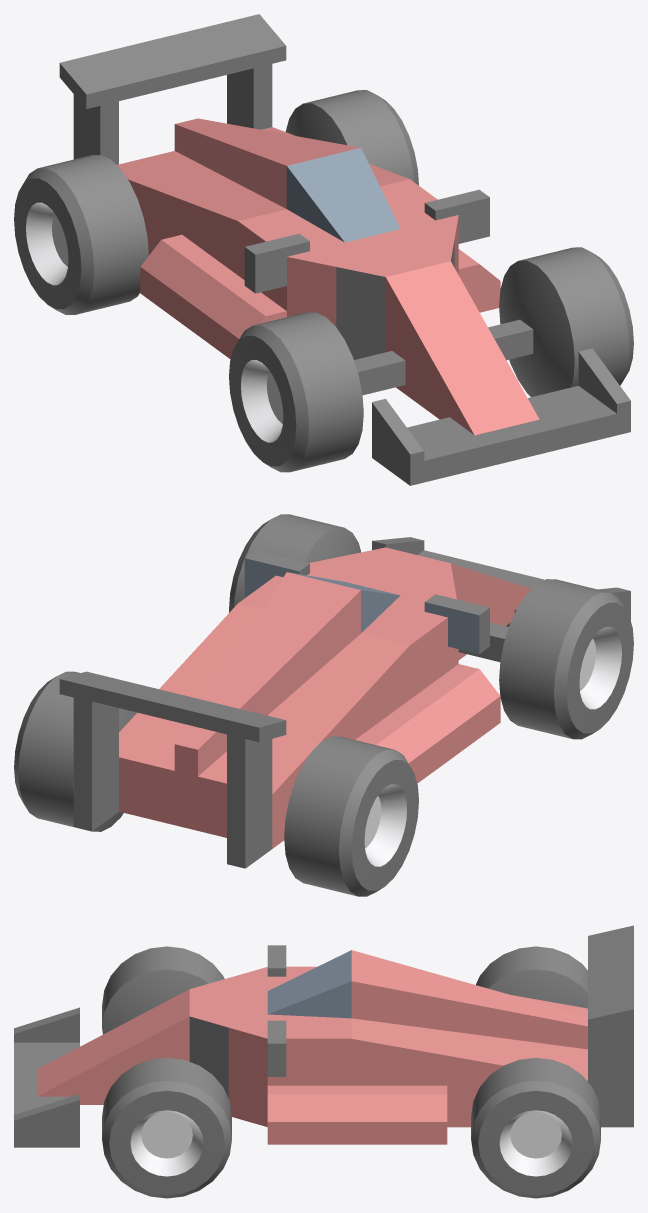
File: Racing Car.fbx
The picture shows the model from 3 angles, top to bottom: view 1: azimuth 30°, elevation 25°; view 2: azimuth 150°, elevation 25°; view 3: azimuth 270°, elevation 25°; orthographic projection. The views are drawn at different scales.
Visible parts, largest first — view 1: body, wheelFrontLeft, wheelBackLeft, wheelFrontRight, wheelBackRight; view 2: body, wheelBackLeft, wheelFrontLeft, wheelBackRight, wheelFrontRight; view 3: body, wheelBackRight, wheelFrontRight, wheelFrontLeft, wheelBackLeft.
Part boxes in pixels (bbox=[...]): body: bbox=[59, 14, 630, 485]; wheelFrontLeft: bbox=[229, 312, 363, 472]; wheelBackLeft: bbox=[14, 155, 148, 314]; wheelFrontRight: bbox=[499, 247, 633, 397]; wheelBackRight: bbox=[285, 90, 418, 185]; body: bbox=[59, 537, 630, 868]; wheelBackLeft: bbox=[284, 736, 418, 896]; wheelFrontLeft: bbox=[499, 579, 633, 739]; wheelBackRight: bbox=[14, 671, 136, 831]; wheelFrontRight: bbox=[229, 514, 360, 612]; body: bbox=[14, 925, 633, 1147]; wheelBackRight: bbox=[471, 1057, 600, 1198]; wheelFrontRight: bbox=[102, 1057, 231, 1198]; wheelFrontLeft: bbox=[102, 946, 224, 1034]; wheelBackLeft: bbox=[476, 946, 587, 1008].
Size of the model in its own units: 109 by 59.55 by 202.
